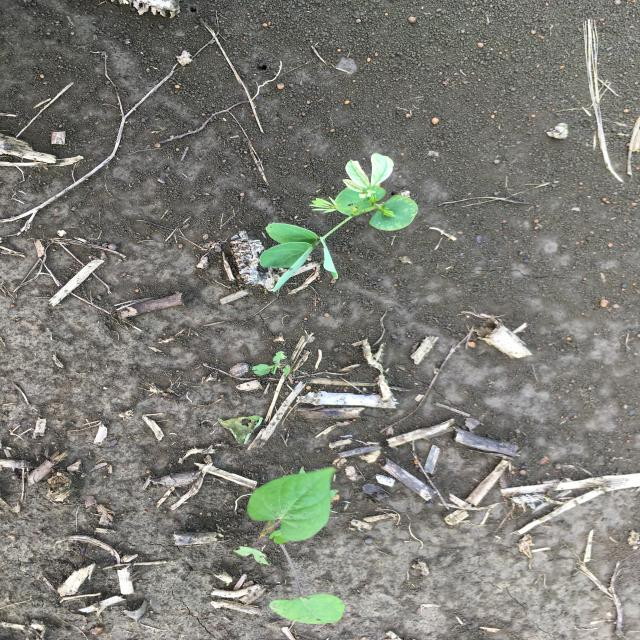MorningGlory: (230, 464, 348, 627)
Sicklepod: (255, 153, 420, 293)
